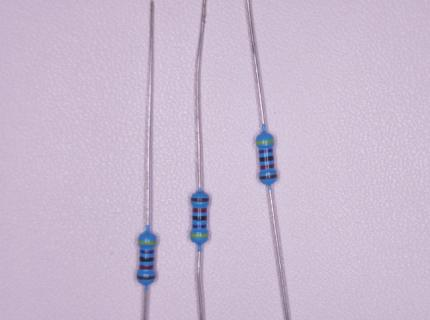Black band: (259, 155, 274, 162), (140, 256, 155, 262), (192, 215, 207, 221)
Brown band: (137, 275, 155, 280), (191, 197, 209, 202), (259, 174, 277, 179)
Red band: (260, 164, 275, 170), (139, 265, 154, 270), (192, 208, 207, 213)
Violet band: (258, 148, 273, 154), (192, 224, 207, 229), (140, 250, 155, 254)
Yellow band: (256, 139, 274, 145), (190, 233, 209, 238), (138, 240, 156, 245)
